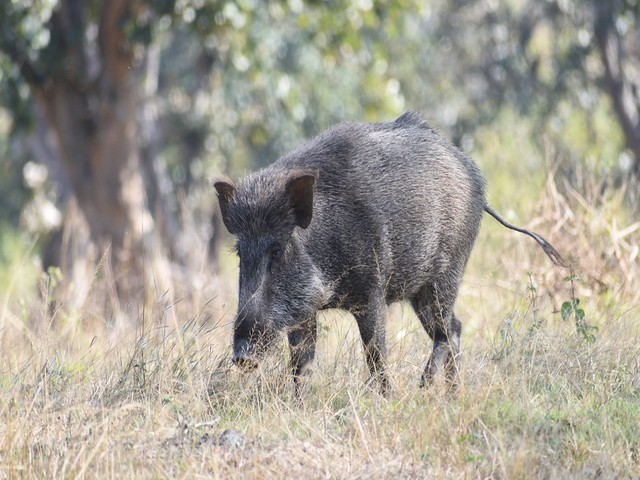Pig: (210, 110, 513, 379)
